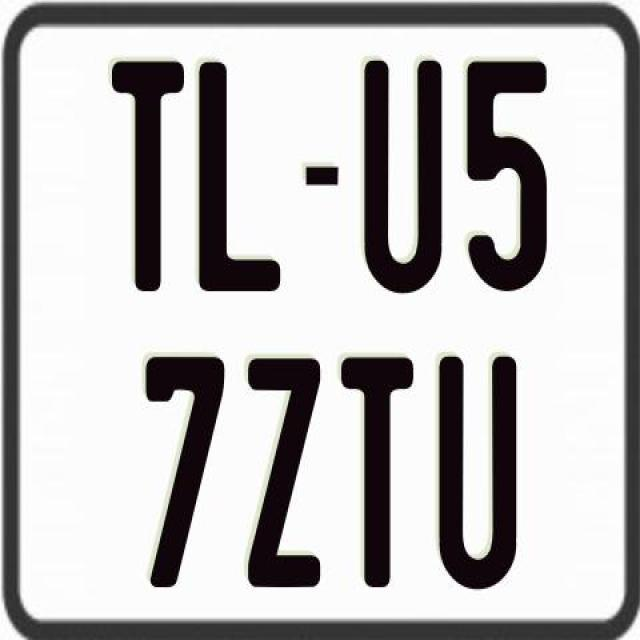5: (466, 59, 550, 299)
7: (144, 352, 228, 586)
L: (198, 59, 286, 294)
T: (112, 59, 192, 299), (338, 355, 418, 595)
U: (364, 61, 442, 301), (438, 357, 518, 590)
Z: (244, 356, 323, 594)
